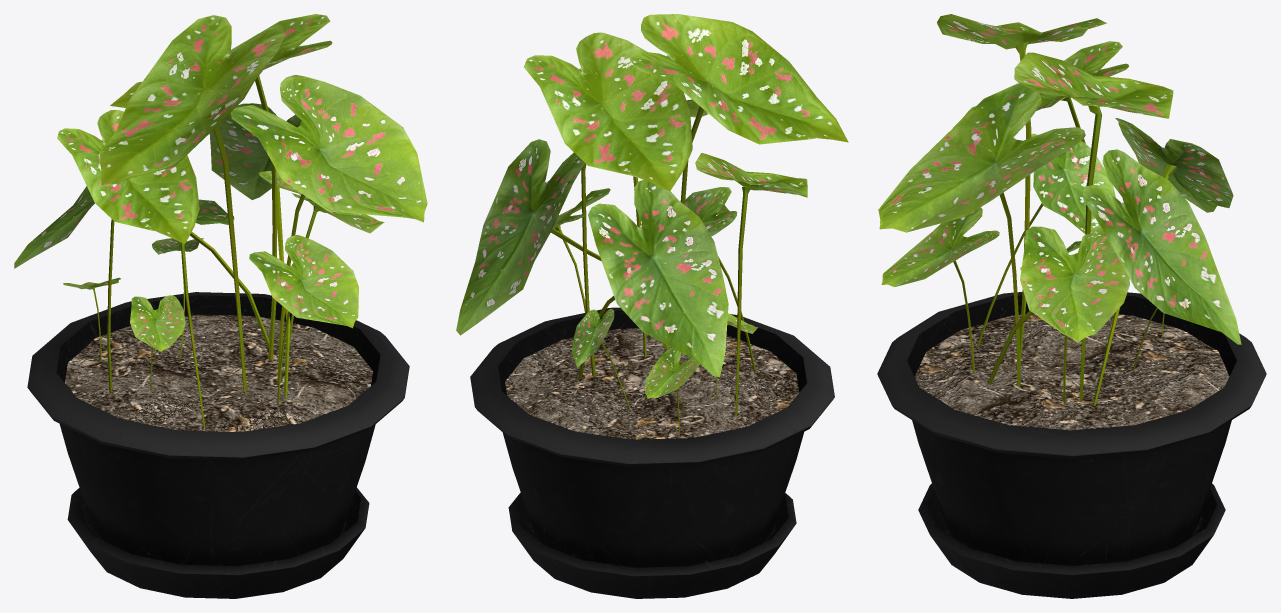
Rendered from uploads_files_5656299_Model_Caladium.glb.
3 views of the same model, side by side, from view 1: azimuth 30°, elevation 25°; view 2: azimuth 150°, elevation 25°; view 3: azimuth 270°, elevation 25° (orthographic). The views are drawn at different scales.
Parts seen in each view (by area): view 1: Model_Plant_Caladium, Model_Vase, Model_Ground; view 2: Model_Plant_Caladium, Model_Vase, Model_Ground; view 3: Model_Plant_Caladium, Model_Vase, Model_Ground.
Part boxes in pixels (x1=…): Model_Plant_Caladium: x1=14, y1=14, x2=427, y2=428; Model_Vase: x1=27, y1=292, x2=409, y2=598; Model_Ground: x1=65, y1=314, x2=372, y2=431; Model_Plant_Caladium: x1=456, y1=14, x2=848, y2=435; Model_Vase: x1=470, y1=307, x2=834, y2=598; Model_Ground: x1=505, y1=328, x2=799, y2=439; Model_Plant_Caladium: x1=878, y1=14, x2=1241, y2=405; Model_Vase: x1=877, y1=292, x2=1266, y2=598; Model_Ground: x1=914, y1=313, x2=1229, y2=430.
Bounding box in the file's own units: 0.953 × 1.43 × 0.953.
3 materials, 3 textured.
